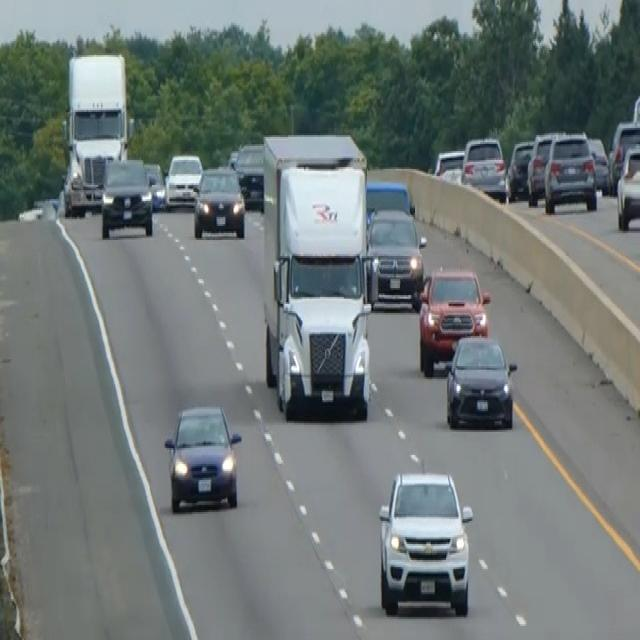car: (163, 402, 242, 512), (415, 265, 491, 375), (444, 331, 517, 430), (366, 204, 426, 310), (543, 130, 597, 213), (100, 155, 153, 238), (192, 164, 246, 240), (461, 133, 507, 201), (608, 119, 639, 192), (164, 151, 203, 208), (525, 130, 555, 204), (365, 178, 414, 220), (234, 140, 264, 208), (616, 144, 639, 231), (506, 137, 534, 199), (587, 135, 610, 192), (143, 160, 166, 212), (433, 148, 464, 180)
jeep: (375, 464, 475, 617)
lorry: (260, 130, 375, 421), (61, 50, 132, 215)
